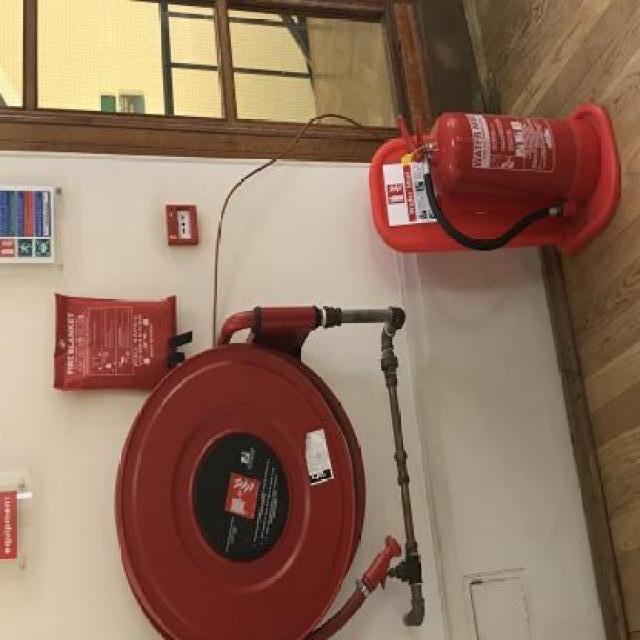fire extinguisher: (395, 110, 600, 250)
